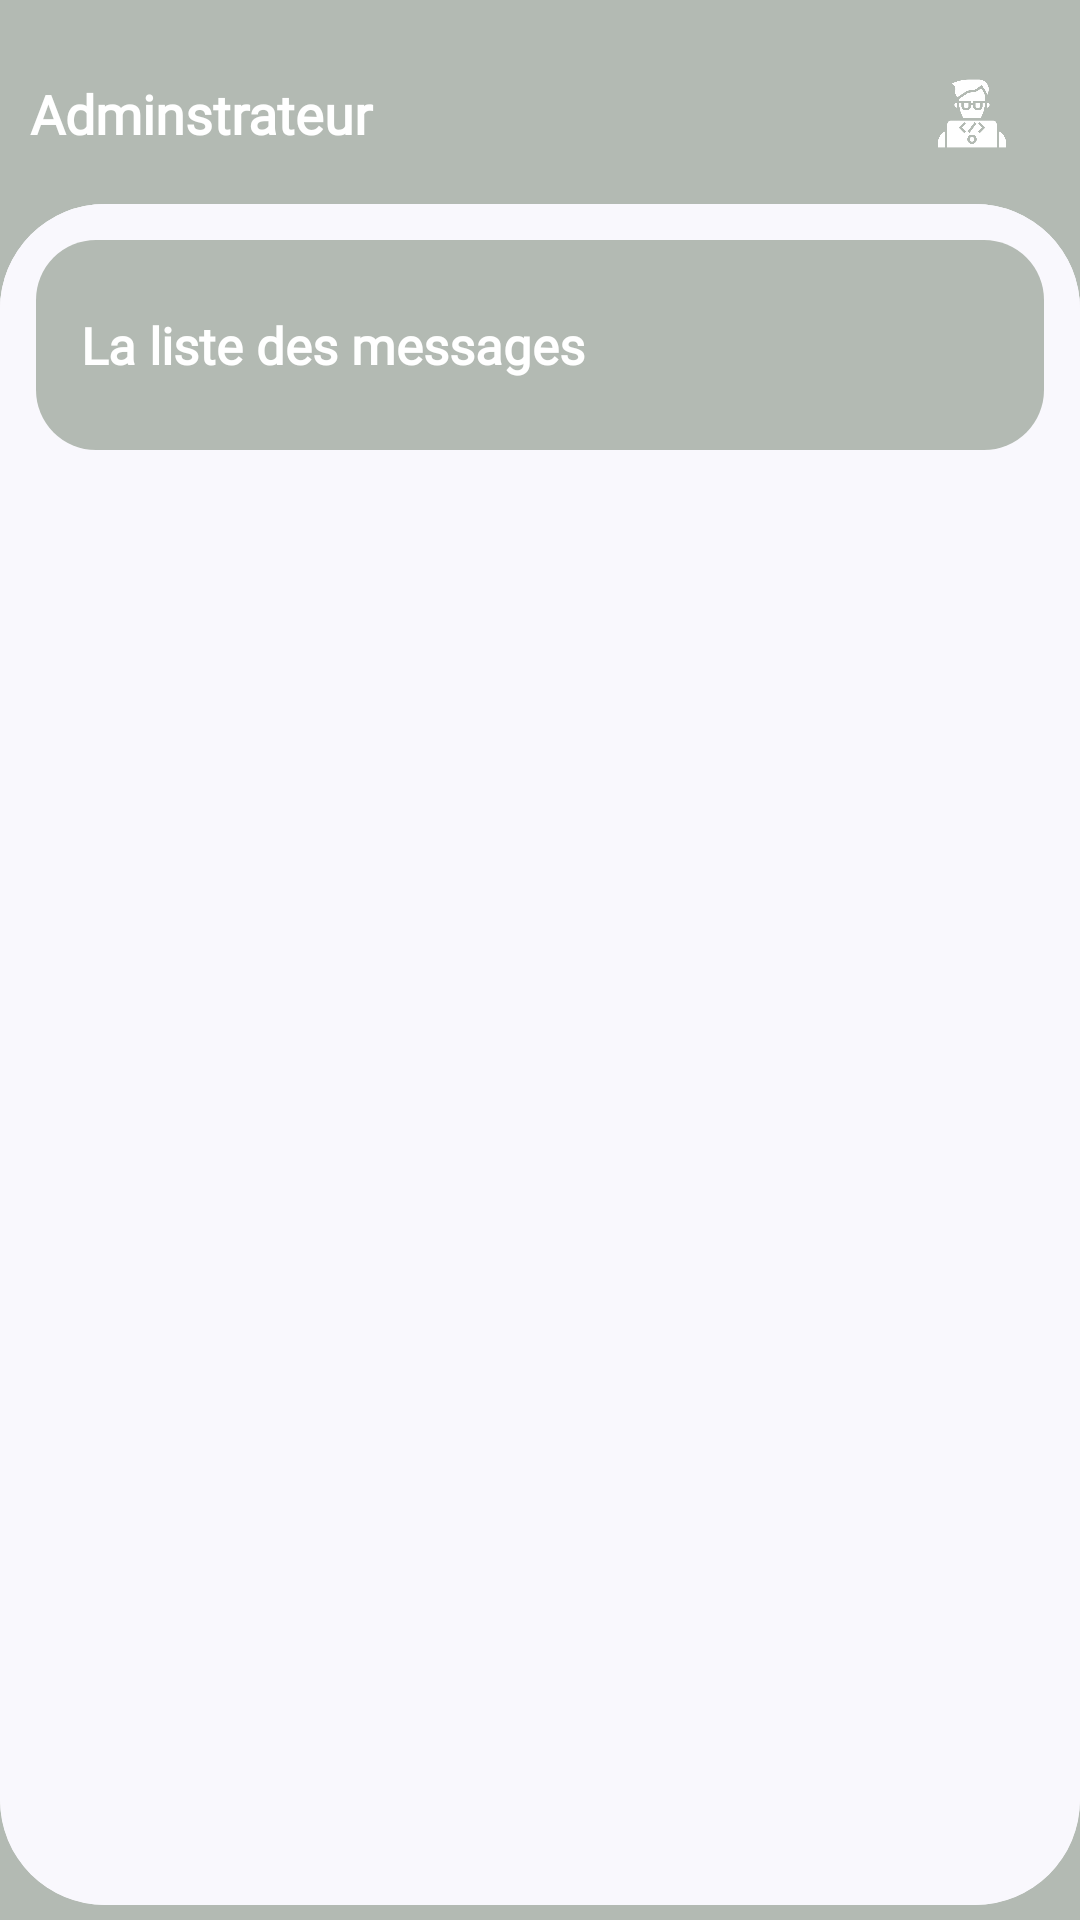

Where to tap for icons on this 1080 x 1920 app screen, as (x=x, y=y):
coding: (x=972, y=113)
